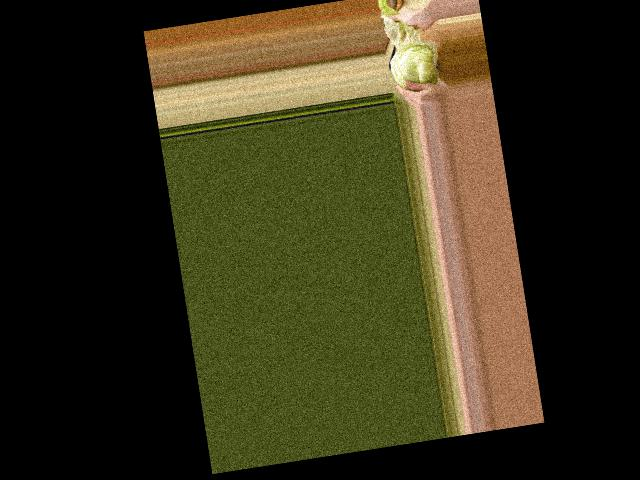lettuce: (383, 27, 446, 95)
